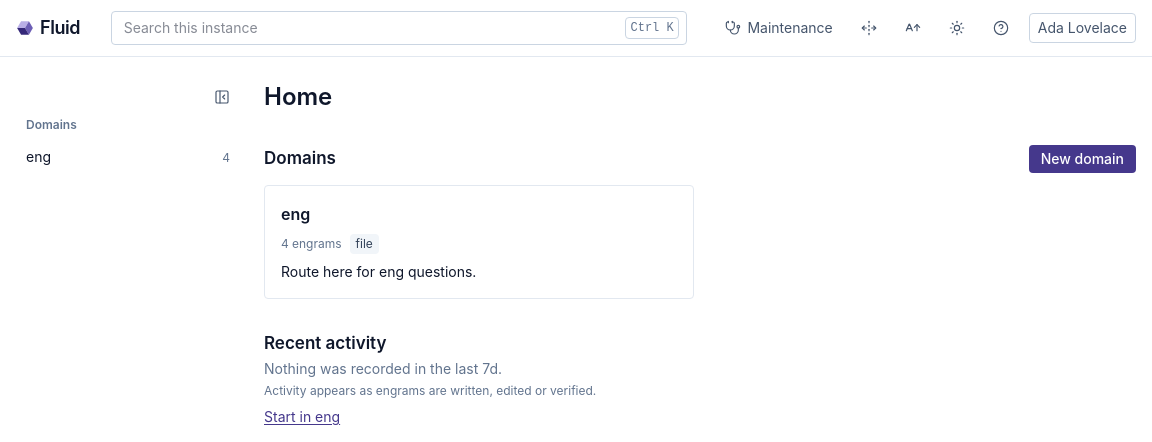
Test: the layout › gathers who you are and what only you can reach into one menu
Check: the heading "Home" is shown, box x1=264 y1=82 x2=332 y2=111
Click the button "Ada Lovelace" at (1082, 28), box x1=1029 y1=13 x2=1136 y2=43
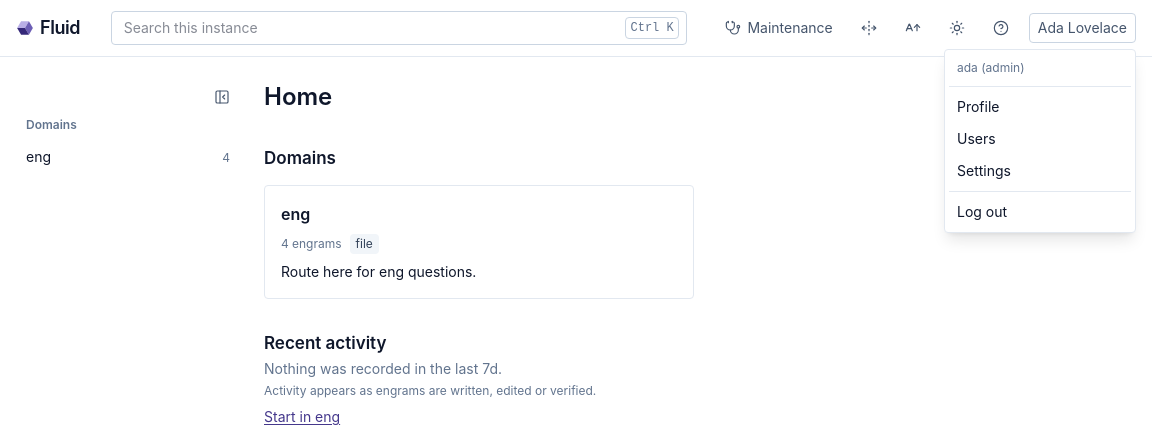
Check: the text "ada (admin)" is shown, box x1=957 y1=60 x2=1025 y2=75
Check: the menu item "Log out" is shown, box x1=957 y1=203 x2=1007 y2=220
